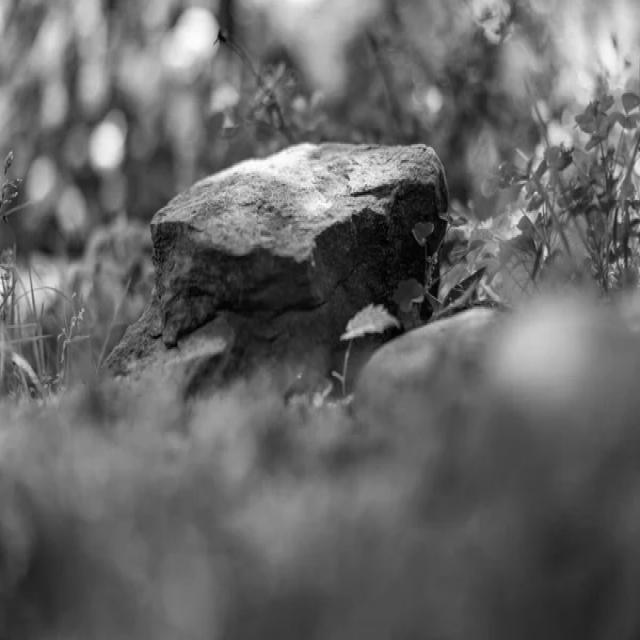Stone: (107, 144, 448, 394)
